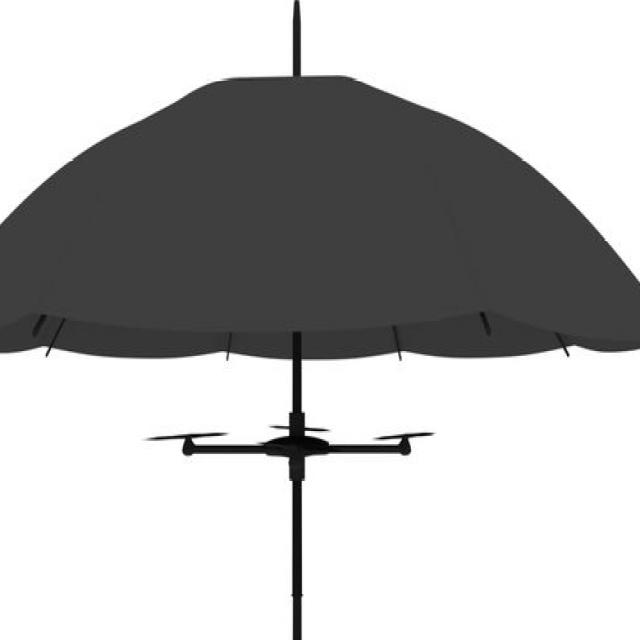drone: (154, 404, 439, 474)
